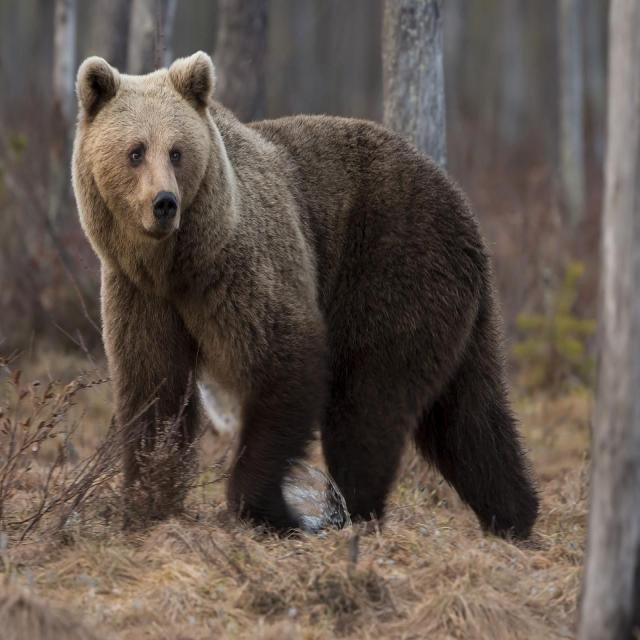Bear: (70, 53, 540, 546)
